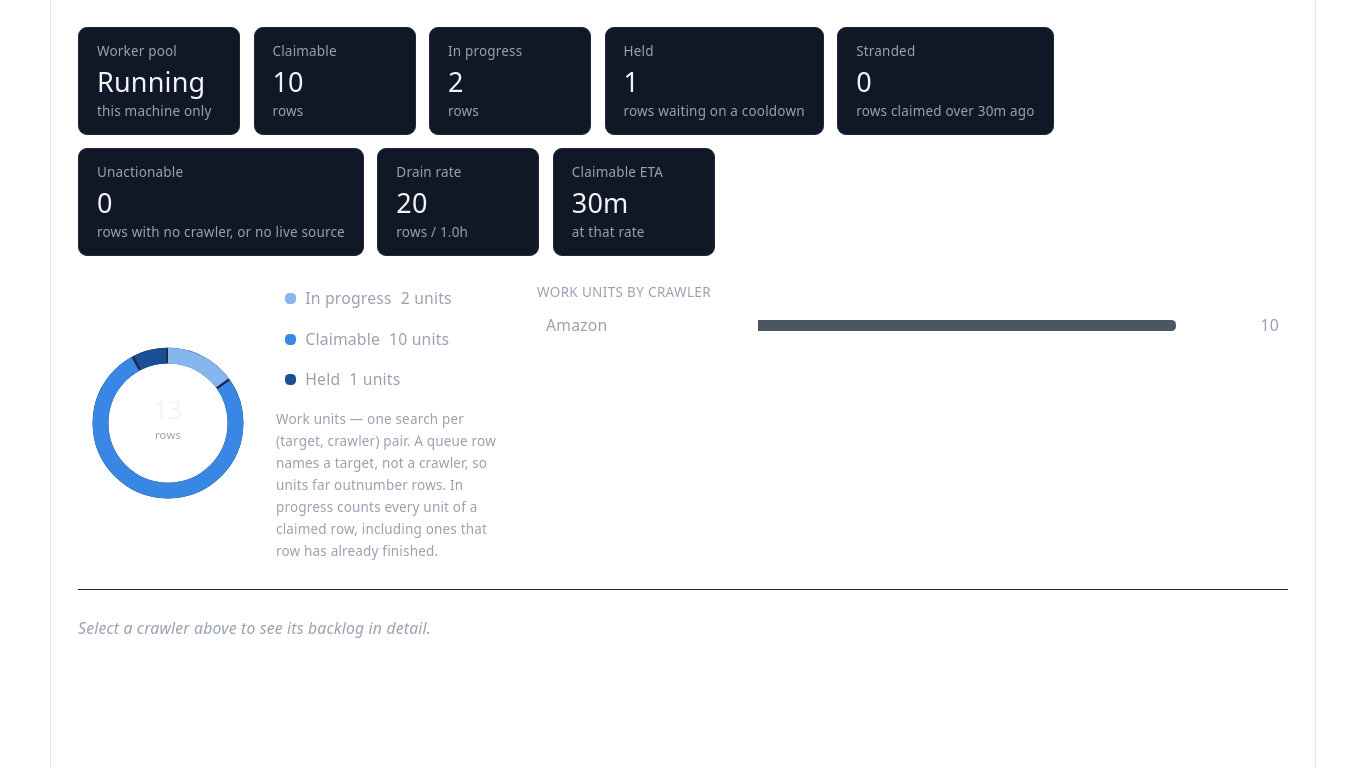
Test: QueueView › loads the next-up list for the crawler that is clicked
Click the button "Amazon 10" at point(912, 326), box 537,310 -> 1288,341
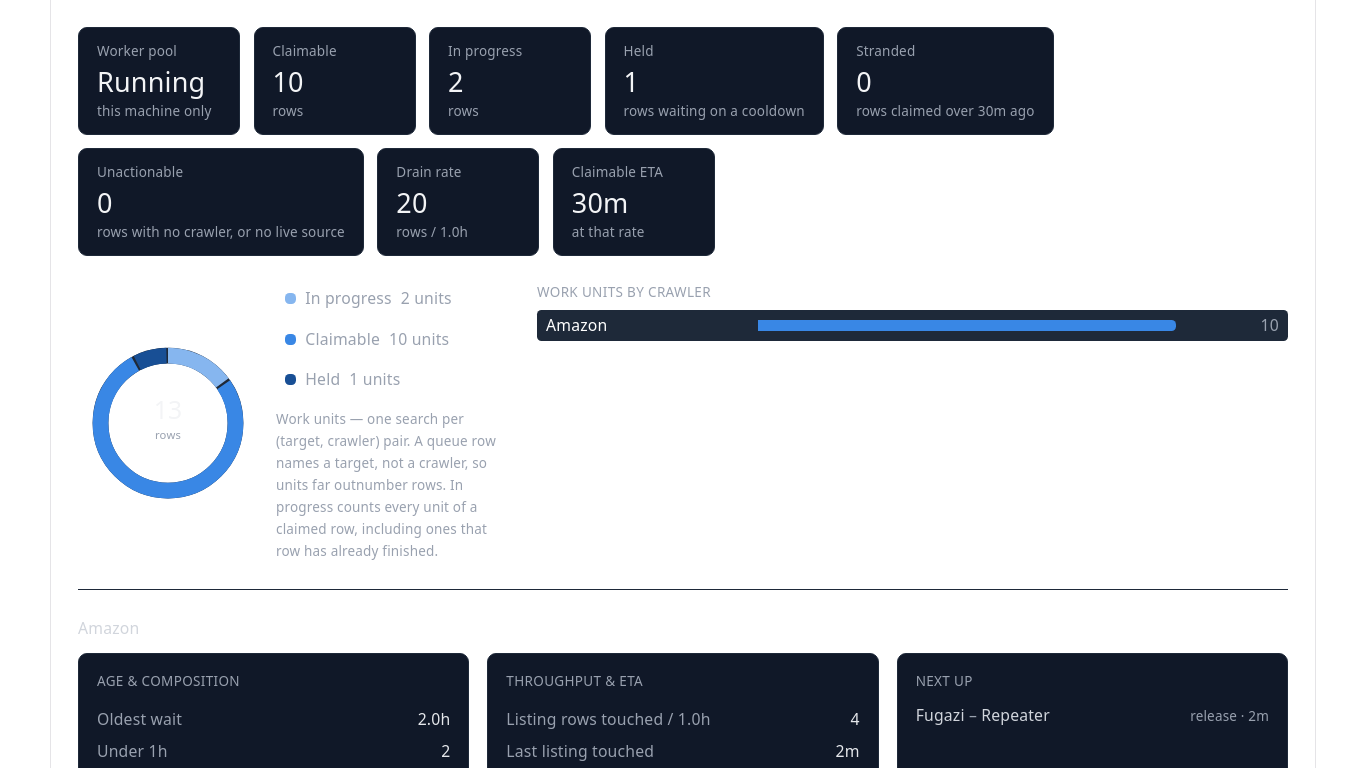
Expected: the text "Fugazi – Repeater" is shown, 916,704 -> 1050,726
Expected: the text "Age & composition" is shown, 97,672 -> 240,690
Expected: the text "Throughput & ETA" is shown, 506,672 -> 643,690
